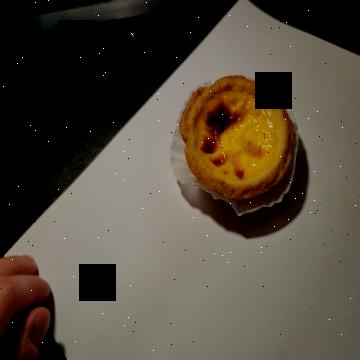EggTart: (179, 74, 294, 202)
